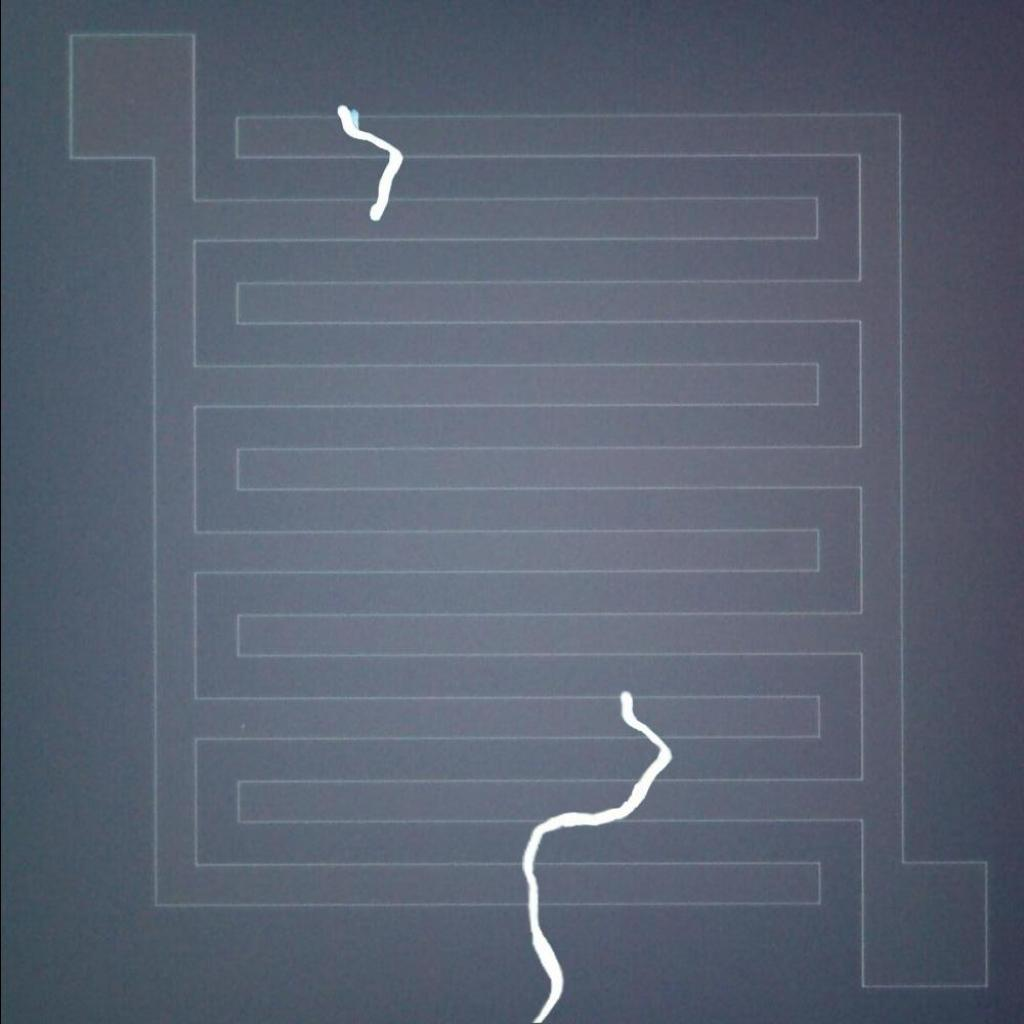line: (511, 684, 679, 1023), (324, 98, 410, 226)
